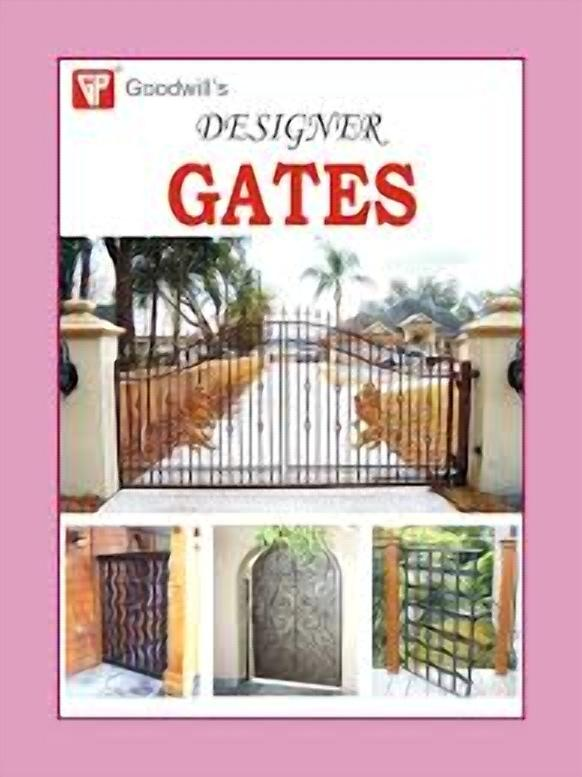Car: (297, 345, 318, 362)
Gate: (111, 305, 476, 489), (368, 540, 497, 700), (245, 540, 341, 693), (92, 548, 169, 679)
